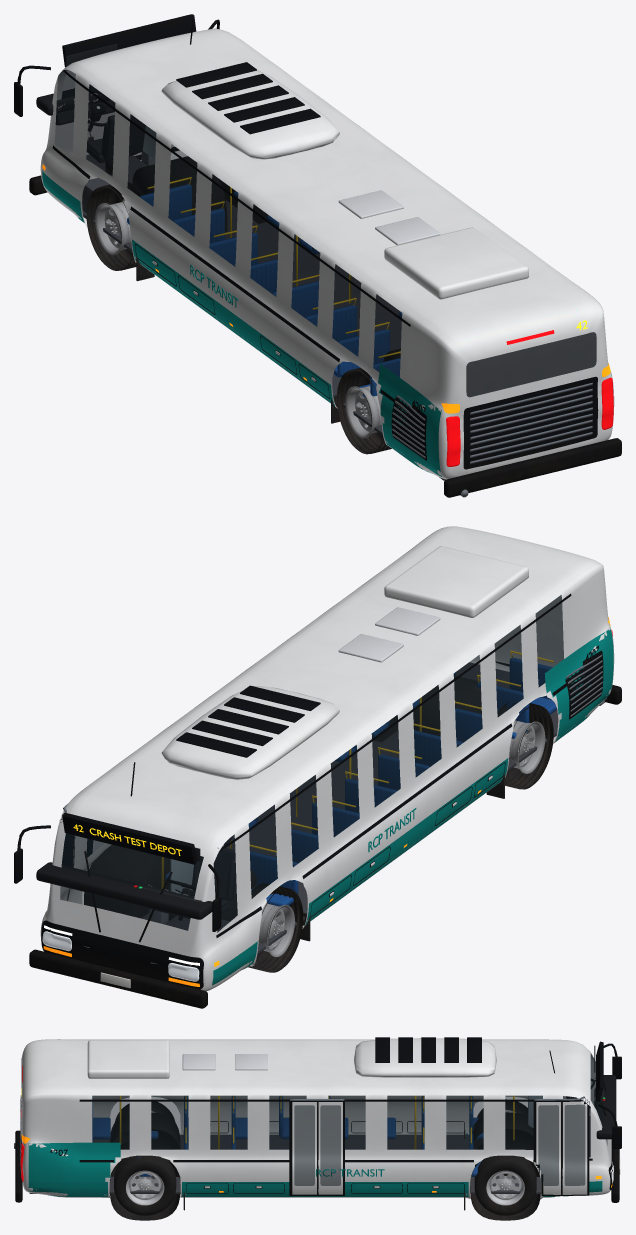
File: CityBus.glb
3 renders of one model, top to bottom at view 1: azimuth 30°, elevation 25°; view 2: azimuth 150°, elevation 25°; view 3: azimuth 270°, elevation 25°, orthographic. The views are drawn at different scales.
Visible parts, largest first — view 1: CityBus_Body, CityBus_Trim2, CityBus_Glass, CityBus_Trim, CityBus_Interior, CityBus_Wheel1, CityBus_Wheel3, CityBus_Lights; view 2: CityBus_Body, CityBus_Trim2, CityBus_Glass, CityBus_Interior, CityBus_Trim, CityBus_Wheel3, CityBus_Wheel1, CityBus_Lights; view 3: CityBus_Body, CityBus_Glass, CityBus_Trim2, CityBus_Wheel2, CityBus_Wheel4, CityBus_Trim, CityBus_Interior, CityBus_Trim3, CityBus_Wheel3, CityBus_Lights, CityBus_Wheel1.
Part boxes in pixels (bbox=[...]): CityBus_Body: bbox=[40, 28, 614, 479]; CityBus_Trim2: bbox=[14, 14, 621, 497]; CityBus_Glass: bbox=[54, 69, 596, 397]; CityBus_Trim: bbox=[134, 244, 598, 469]; CityBus_Interior: bbox=[36, 44, 156, 213]; CityBus_Wheel1: bbox=[86, 182, 142, 270]; CityBus_Wheel3: bbox=[337, 367, 391, 454]; CityBus_Lights: bbox=[42, 164, 613, 466]; CityBus_Body: bbox=[40, 526, 614, 991]; CityBus_Trim2: bbox=[14, 593, 621, 1008]; CityBus_Glass: bbox=[60, 595, 563, 932]; CityBus_Interior: bbox=[36, 836, 235, 932]; CityBus_Trim: bbox=[41, 645, 603, 989]; CityBus_Wheel3: bbox=[497, 702, 553, 789]; CityBus_Wheel1: bbox=[248, 883, 303, 972]; CityBus_Lights: bbox=[42, 617, 612, 986]; CityBus_Body: bbox=[21, 1038, 611, 1199]; CityBus_Glass: bbox=[21, 1053, 607, 1185]; CityBus_Trim2: bbox=[14, 1037, 621, 1220]; CityBus_Wheel2: bbox=[474, 1156, 536, 1215]; CityBus_Wheel4: bbox=[114, 1156, 176, 1215]; CityBus_Trim: bbox=[21, 1098, 613, 1195]; CityBus_Interior: bbox=[528, 1045, 616, 1156]; CityBus_Trim3: bbox=[119, 1050, 554, 1149]; CityBus_Wheel3: bbox=[115, 1101, 175, 1122]; CityBus_Lights: bbox=[20, 1065, 613, 1192]; CityBus_Wheel1: bbox=[477, 1099, 527, 1118].
Bounding box in the file's own units: 10.22 × 10.09 × 37.1.
17 materials, 10 textured.
